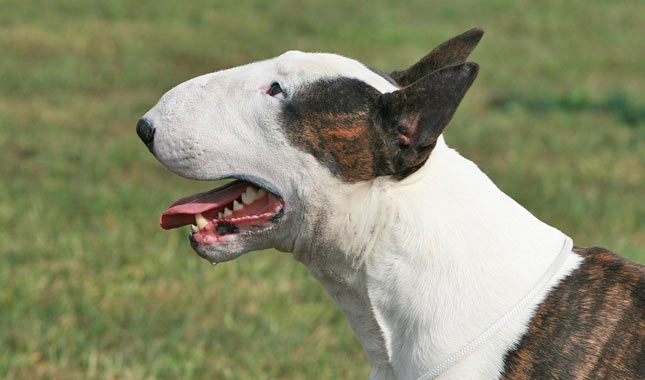bull_terrier: (134, 27, 644, 380)
